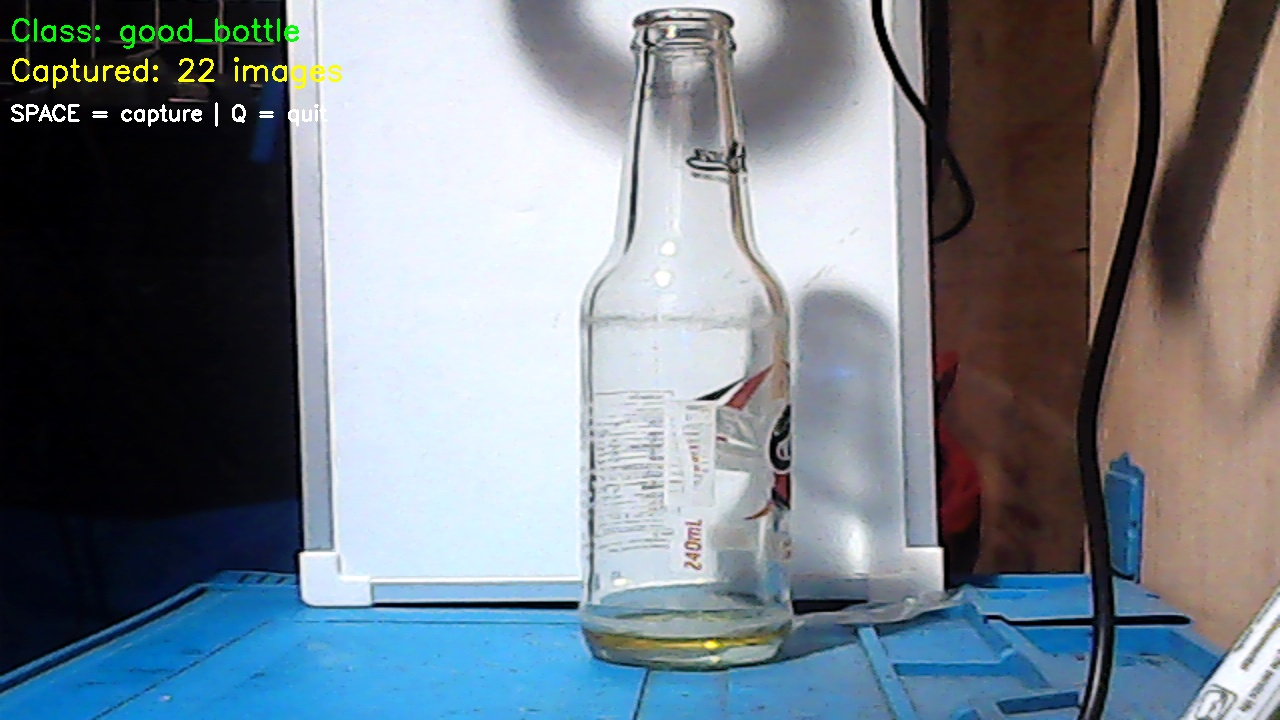good_bottle: (553, 11, 795, 661)
